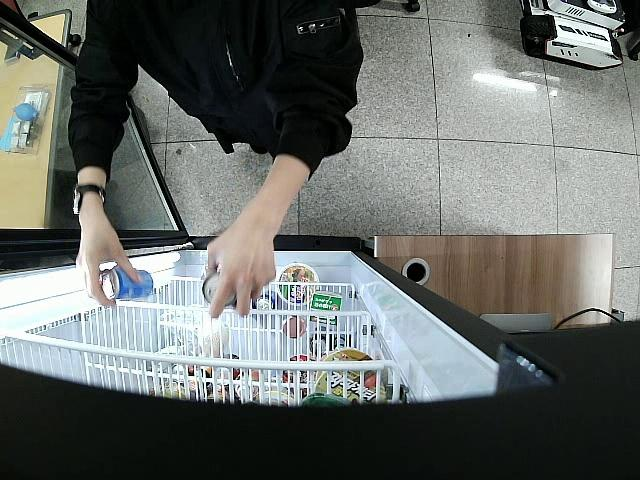00_hand: (206, 225, 276, 319), (74, 226, 143, 309)
15_letsbe: (100, 266, 154, 301), (200, 271, 231, 304)
